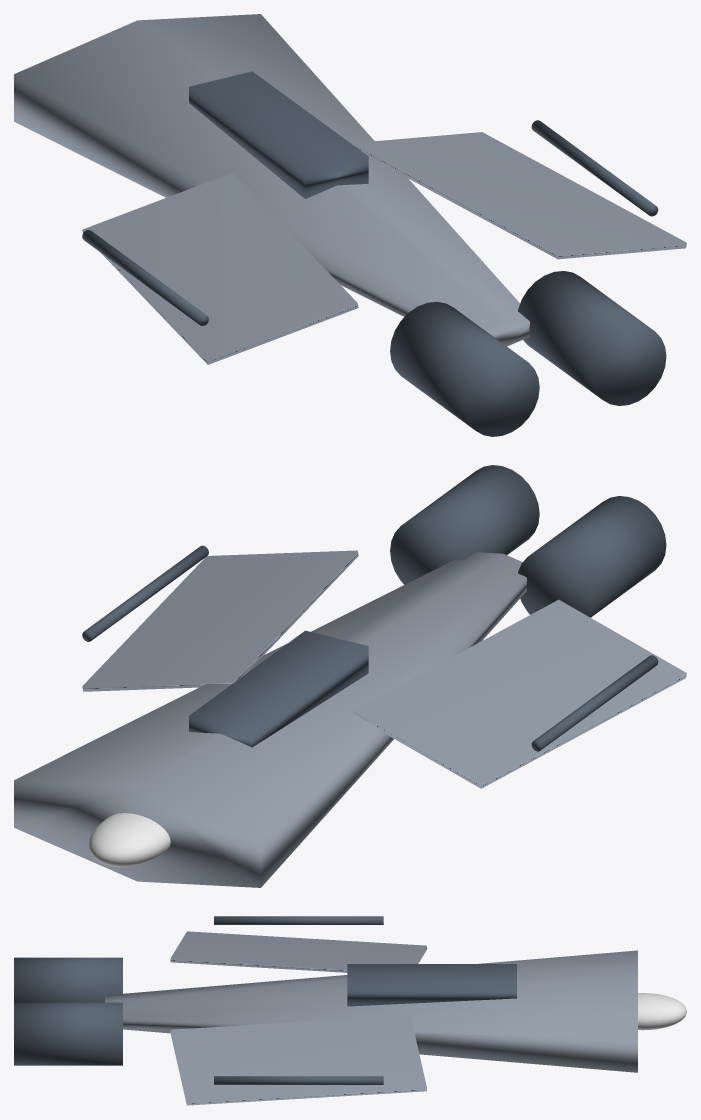
The model's file is USS_Astronautica_Flagship.fbx.
3 views of the same model, one above another, from view 1: azimuth 30°, elevation 25°; view 2: azimuth 150°, elevation 25°; view 3: azimuth 270°, elevation 25° (orthographic). The views are drawn at different scales.
Parts seen in each view (by area): view 1: Flagship_Main_Hull, Flagship_Radiator_Port, Flagship_Radiator_Starboard, Flagship_Engine_Nozzle_Port, Flagship_Engine_Nozzle_Starboard, Flagship_Command_Bridge, Flagship_Spike_Starboard, Flagship_Spike_Port; view 2: Flagship_Main_Hull, Flagship_Radiator_Port, Flagship_Radiator_Starboard, Flagship_Engine_Nozzle_Port, Flagship_Command_Bridge, Flagship_Engine_Nozzle_Starboard, Flagship_Sensor_Prow, Flagship_Spike_Port, Flagship_Spike_Starboard; view 3: Flagship_Main_Hull, Flagship_Radiator_Starboard, Flagship_Radiator_Port, Flagship_Engine_Nozzle_Starboard, Flagship_Command_Bridge, Flagship_Engine_Nozzle_Port, Flagship_Spike_Port, Flagship_Spike_Starboard, Flagship_Sensor_Prow.
Boxes of the visible parts, x1,y1,x2,y2 form: Flagship_Main_Hull: (14, 14, 529, 346); Flagship_Radiator_Port: (82, 172, 358, 364); Flagship_Radiator_Starboard: (353, 132, 686, 259); Flagship_Engine_Nozzle_Port: (390, 302, 539, 436); Flagship_Engine_Nozzle_Starboard: (518, 271, 666, 405); Flagship_Command_Bridge: (189, 71, 368, 198); Flagship_Spike_Starboard: (531, 120, 658, 216); Flagship_Spike_Port: (82, 230, 208, 325); Flagship_Main_Hull: (14, 552, 526, 887); Flagship_Radiator_Port: (353, 599, 686, 788); Flagship_Radiator_Starboard: (82, 550, 358, 691); Flagship_Engine_Nozzle_Port: (518, 496, 666, 617); Flagship_Command_Bridge: (189, 630, 368, 747); Flagship_Engine_Nozzle_Starboard: (390, 465, 539, 584); Flagship_Sensor_Prow: (89, 813, 170, 866); Flagship_Spike_Port: (531, 655, 658, 751); Flagship_Spike_Starboard: (82, 545, 208, 641); Flagship_Main_Hull: (105, 950, 637, 1072); Flagship_Radiator_Starboard: (170, 1015, 426, 1105); Flagship_Radiator_Port: (170, 931, 426, 972); Flagship_Engine_Nozzle_Starboard: (14, 1002, 122, 1065); Flagship_Command_Bridge: (347, 964, 516, 1006); Flagship_Engine_Nozzle_Port: (14, 957, 122, 1002); Flagship_Spike_Port: (214, 916, 383, 924); Flagship_Spike_Starboard: (214, 1076, 383, 1084); Flagship_Sensor_Prow: (638, 993, 686, 1030).
Bounding box in the file's own units: 1667 × 323 × 2777.
